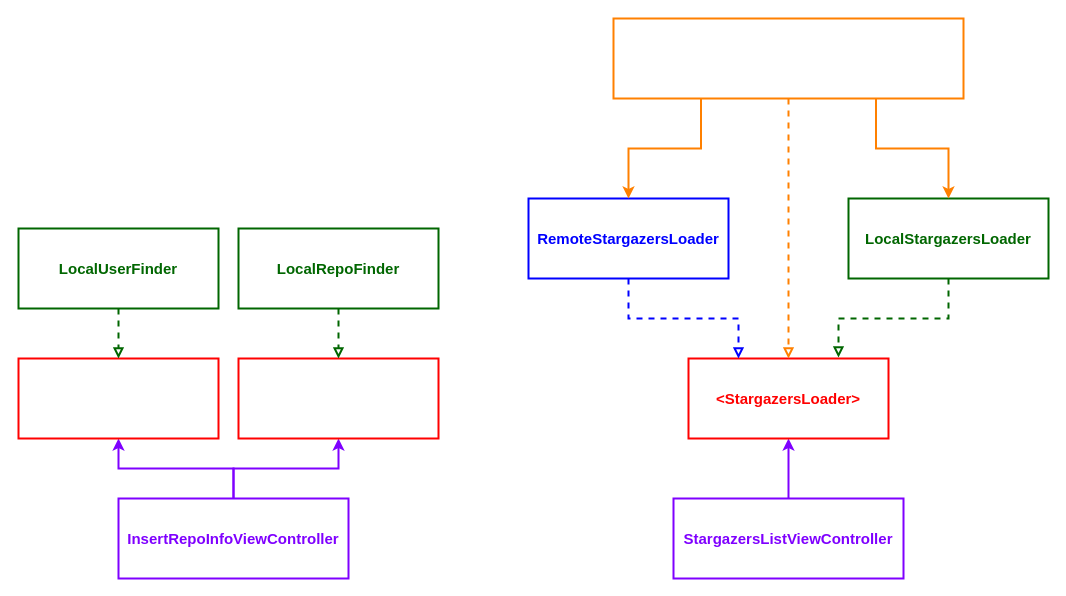
This 1066x596 diagram has some shape labels left out. The centre of each missing label's shape, as x and y in pixels:
"<RepoFinder>" belongs at point (338, 398).
"<UserFinder>" belongs at point (118, 398).
"RemoteWithLocalFallbackStargazersLoader" belongs at point (788, 58).
